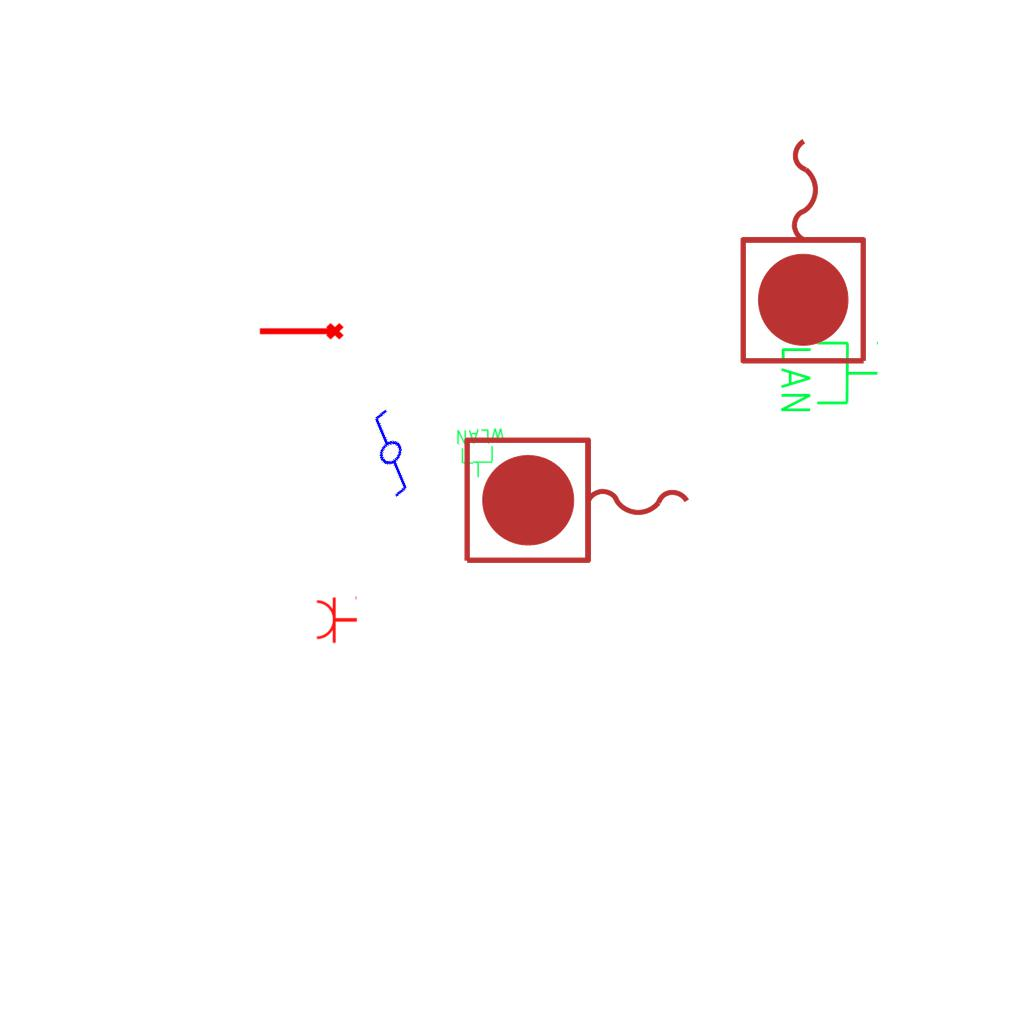ASR_Ansaugoeffnung: (257, 321, 345, 344)
Schukosteckdose_einfach: (315, 594, 358, 644)
WLAN: (777, 311, 881, 416), (454, 425, 510, 481)
Wechselschalter: (342, 397, 446, 503)
Zugtaster: (733, 128, 877, 372), (456, 430, 700, 574)
